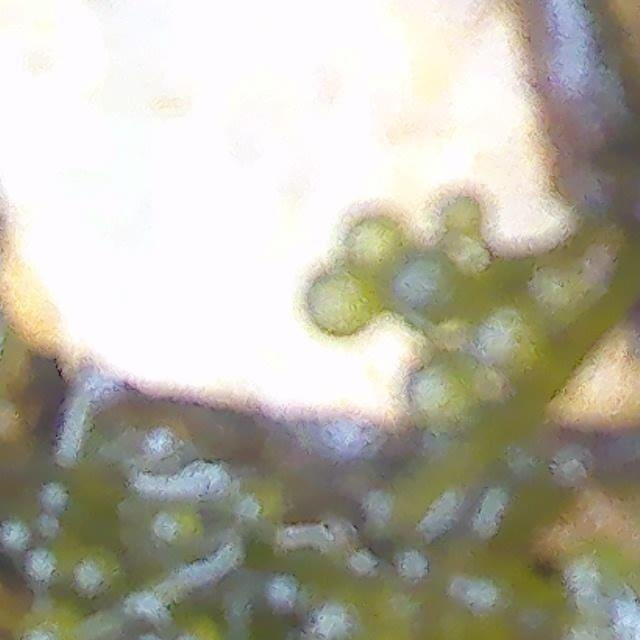SeaGrape: (470, 297, 554, 379), (307, 263, 388, 342), (391, 248, 467, 327), (345, 210, 413, 278)
